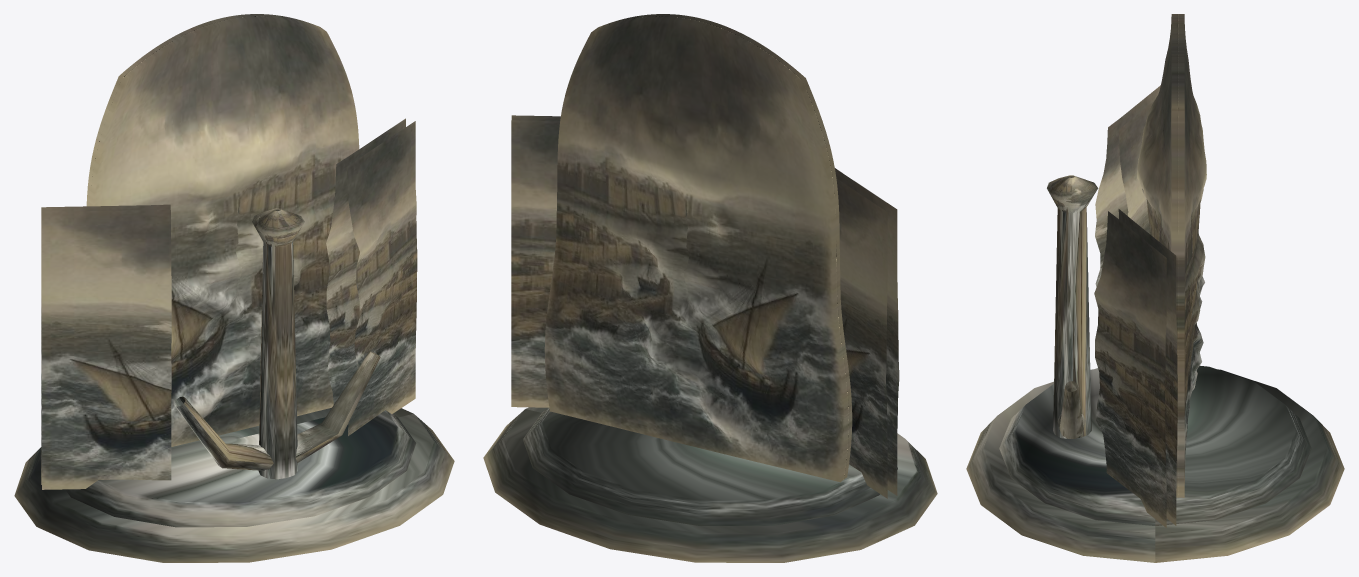
The model's file is out-of-the-deep-3.glb.
3 views of the same model, side by side, from view 1: azimuth 30°, elevation 25°; view 2: azimuth 150°, elevation 25°; view 3: azimuth 270°, elevation 25° (orthographic). The views are drawn at different scales.
Parts seen in each view (by area): view 1: PaintingSculptureMonument; view 2: PaintingSculptureMonument; view 3: PaintingSculptureMonument.
Boxes of the visible parts, box(x1,y1,x2,y2) form: PaintingSculptureMonument: box(14, 14, 454, 562); PaintingSculptureMonument: box(483, 14, 937, 562); PaintingSculptureMonument: box(966, 14, 1344, 562).
Bounding box in the file's own units: 2.76 × 2.99 × 2.35.
1 material, 1 textured.
